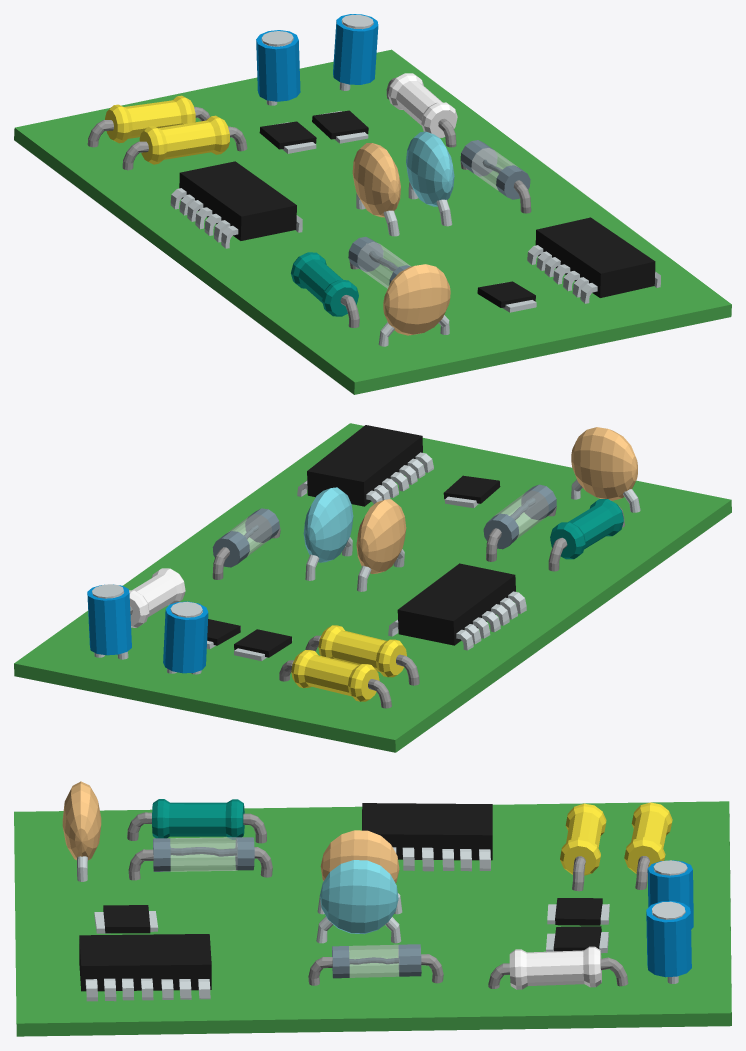
The model's file is circuit.obj.
The picture shows the model from 3 angles, top to bottom: view 1: azimuth 30°, elevation 25°; view 2: azimuth 150°, elevation 25°; view 3: azimuth 270°, elevation 25°; orthographic projection. The views are drawn at different scales.
Visible parts, largest first — view 1: group502520534, group2135967221, group1769250652, group684972054, group531468861, group375345493, group378068505, group826636348, group1463279788, group1068192779, group1949913493, group664017250 (+5 smaller); view 2: group502520534, group2135967221, group1769250652, group684972054, group826636348, group375345493, group531468861, group378068505, group1463279788, group1068192779, group664017250, group1238052222 (+5 smaller); view 3: group502520534, group1769250652, group2135967221, group375345493, group1238052222, group664017250, group1949913493, group1096772465, group1068192779, group531468861, group684972054, group826636348 (+5 smaller).
Part boxes in pixels (bbox=[...]): group502520534: bbox=[14, 49, 731, 394]; group2135967221: bbox=[170, 161, 302, 248]; group1769250652: bbox=[527, 217, 660, 303]; group684972054: bbox=[378, 264, 450, 346]; group531468861: bbox=[122, 115, 247, 170]; group375345493: bbox=[406, 131, 454, 226]; group378068505: bbox=[352, 143, 400, 236]; group826636348: bbox=[87, 95, 210, 147]; group1463279788: bbox=[256, 30, 300, 105]; group1068192779: bbox=[333, 14, 378, 90]; group1949913493: bbox=[386, 73, 457, 147]; group664017250: bbox=[291, 252, 359, 327]; group502520534: bbox=[14, 423, 731, 752]; group2135967221: bbox=[388, 563, 526, 650]; group1769250652: bbox=[297, 425, 433, 506]; group684972054: bbox=[571, 427, 640, 512]; group826636348: bbox=[279, 650, 391, 708]; group375345493: bbox=[303, 487, 353, 580]; group531468861: bbox=[305, 625, 419, 685]; group378068505: bbox=[356, 499, 406, 591]; group1463279788: bbox=[163, 601, 208, 674]; group1068192779: bbox=[87, 584, 131, 659]; group664017250: bbox=[548, 499, 624, 571]; group1238052222: bbox=[483, 484, 556, 561]; group502520534: bbox=[14, 801, 731, 1036]; group1769250652: bbox=[79, 934, 211, 1001]; group2135967221: bbox=[362, 803, 492, 871]; group375345493: bbox=[316, 860, 401, 943]; group1238052222: bbox=[128, 837, 272, 880]; group664017250: bbox=[127, 799, 266, 843]; group1949913493: bbox=[488, 946, 628, 989]; group1096772465: bbox=[308, 944, 443, 985]; group1068192779: bbox=[646, 901, 691, 983]; group531468861: bbox=[560, 803, 606, 891]; group684972054: bbox=[62, 781, 101, 881]; group826636348: bbox=[624, 802, 672, 889].
Bounding box in the file's own units: 0.9195 × 0.2308 × 1.41.
